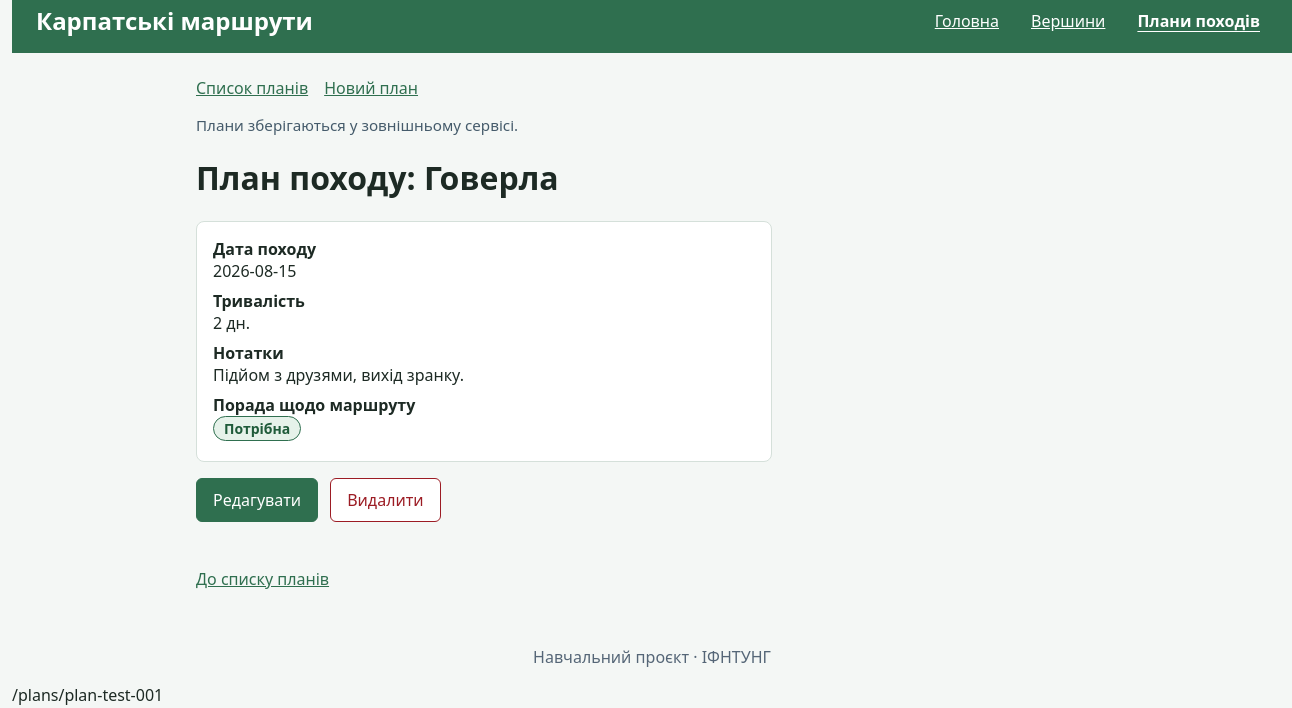
Test: відмова видалення залишає запис і поточну адресу
Check: the heading "План походу: Говерла" is shown, box x1=196 y1=156 x2=559 y2=199
Click the button "Видалити".
click(385, 500)  # box x1=330 y1=478 x2=441 y2=522
(page scrolled)
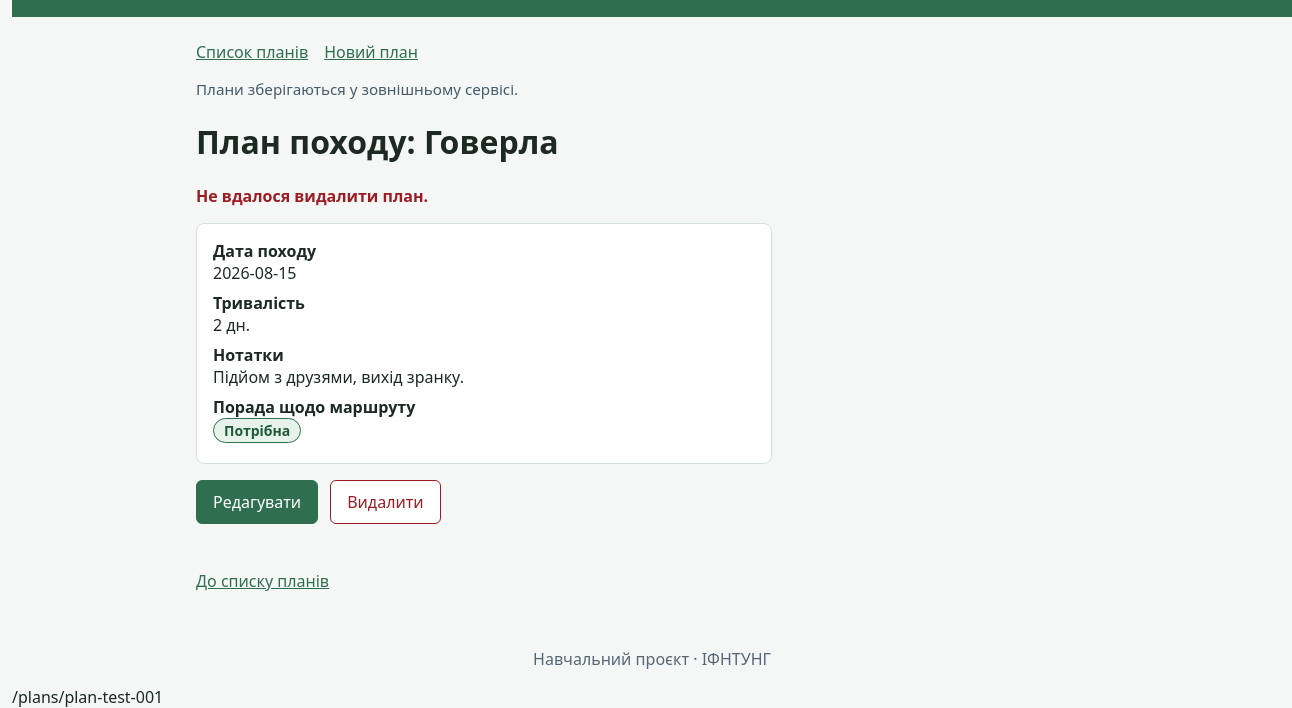
Check: the text "Підйом з друзями, вихід зранку." is shown, box x1=213 y1=366 x2=464 y2=388
Check: the message "Не вдалося видалити план." is shown, box x1=196 y1=185 x2=428 y2=207
